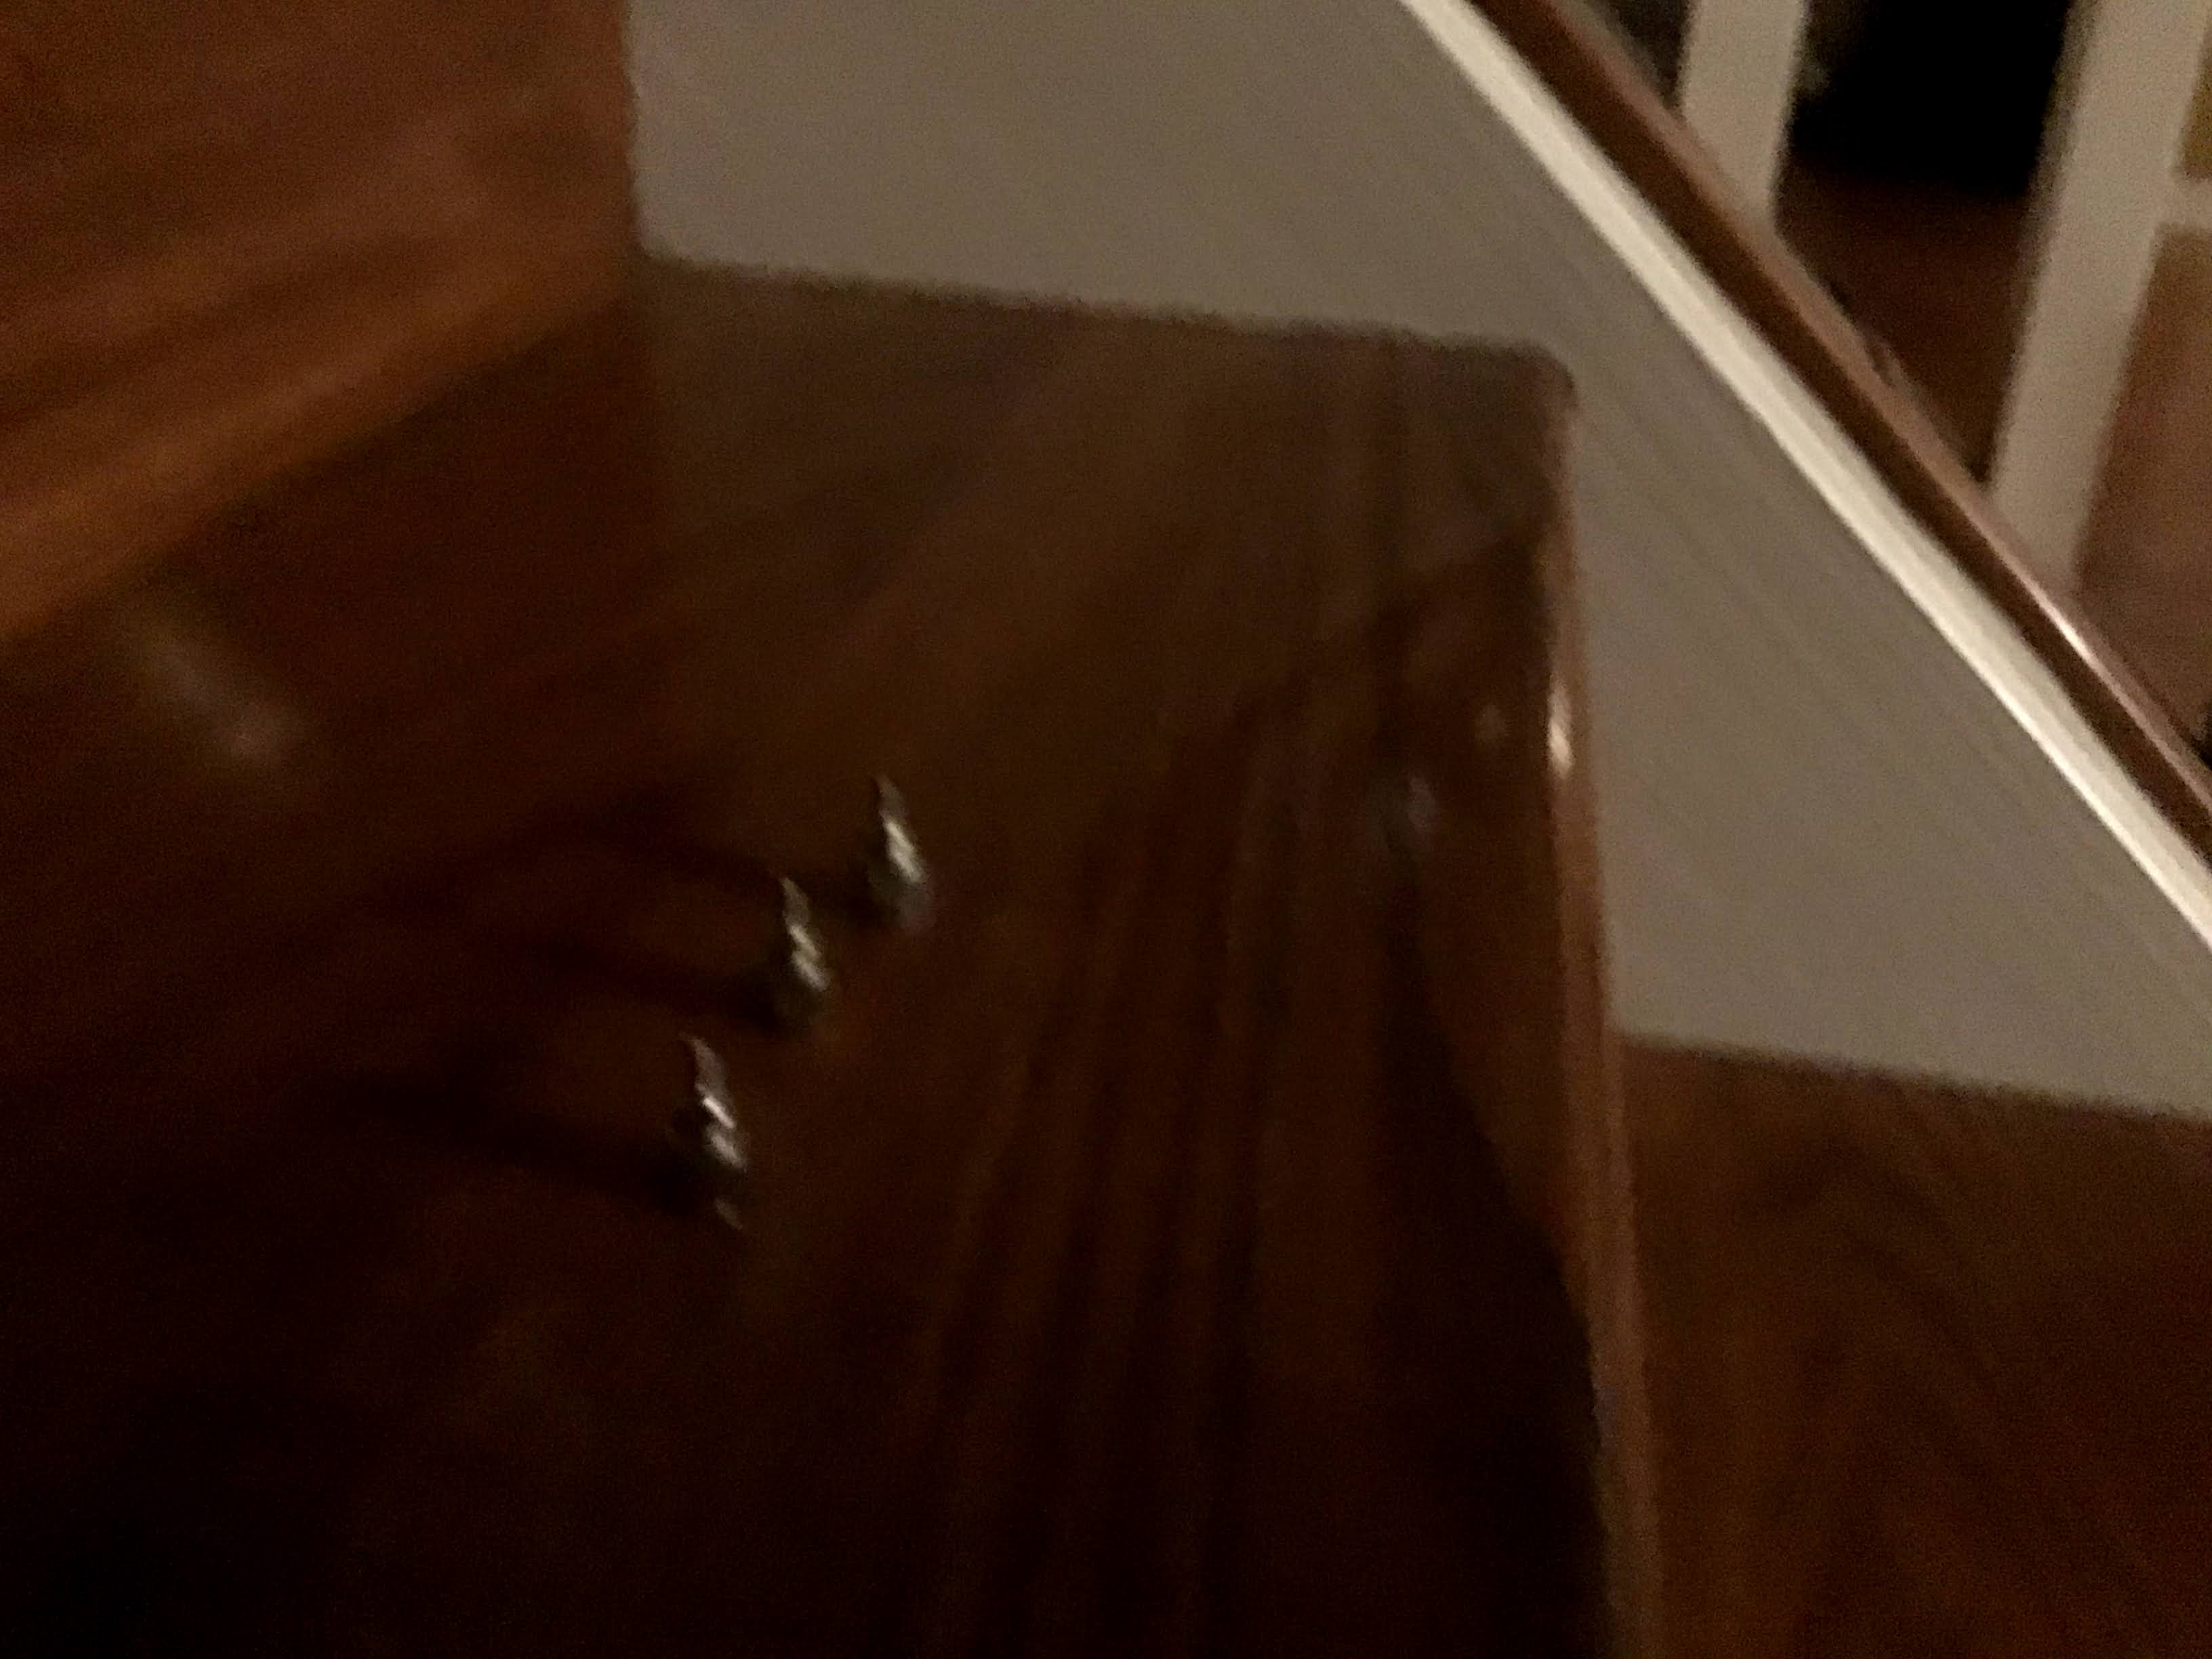Space-debris-small: (651, 1032, 763, 1187), (754, 864, 857, 1032), (857, 762, 941, 931)
